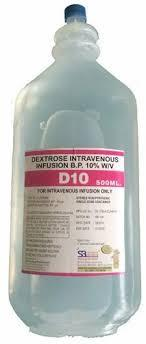Iv_Bottle: (9, 5, 139, 336)
